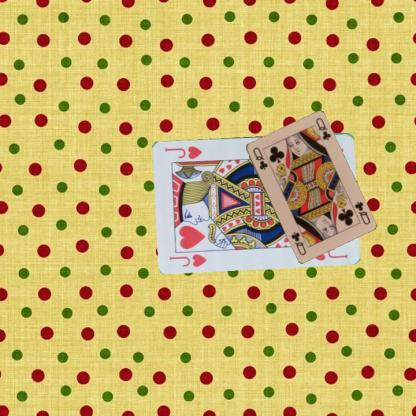Jh: (167, 251, 208, 268)
Qc: (250, 144, 269, 171), (352, 199, 371, 226)
